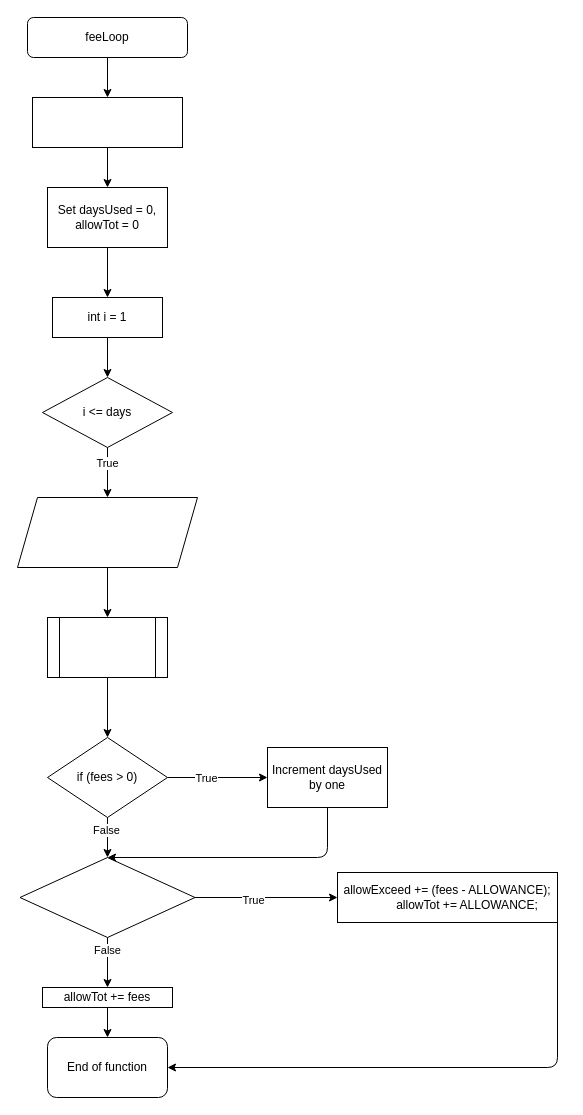
This 583x1115 diagram has some shape labels left out. The box of each missing label's shape, as (x1, y1, x2, y2) in pixels:
Declare variable double fees: (32, 96, 182, 148)
Display "On day ", i, ": $": (16, 496, 198, 568)
fees = getValue: (46, 616, 168, 678)
if ((fees - ALLOWANCE) > 0): (19, 856, 195, 938)
